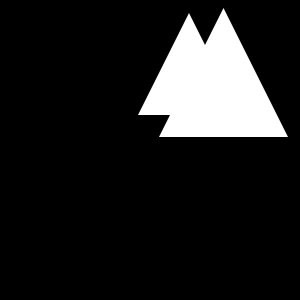triangle: (159, 8, 288, 137), (138, 13, 240, 115)
